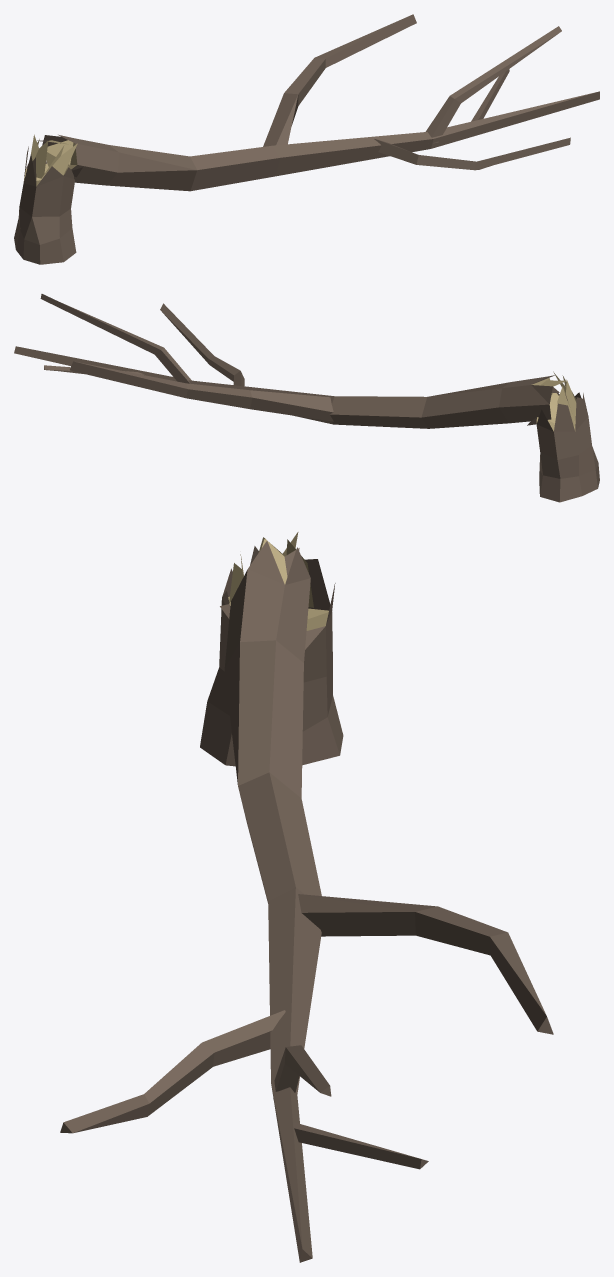
Rendered from SM_RF_FallenTree_01.fbx.
3 renders of one model, top to bottom at view 1: azimuth 30°, elevation 25°; view 2: azimuth 150°, elevation 25°; view 3: azimuth 270°, elevation 25°, orthographic. The views are drawn at different scales.
Parts seen in each view (by area): view 1: SM_RF_FallenTree_01; view 2: SM_RF_FallenTree_01; view 3: SM_RF_FallenTree_01.
Part boxes in pixels (x1=…): SM_RF_FallenTree_01: x1=14, y1=14, x2=599, y2=264; SM_RF_FallenTree_01: x1=14, y1=294, x2=599, y2=502; SM_RF_FallenTree_01: x1=60, y1=532, x2=553, y2=1262.
Size of the model in its own units: 852 by 155 by 320.
